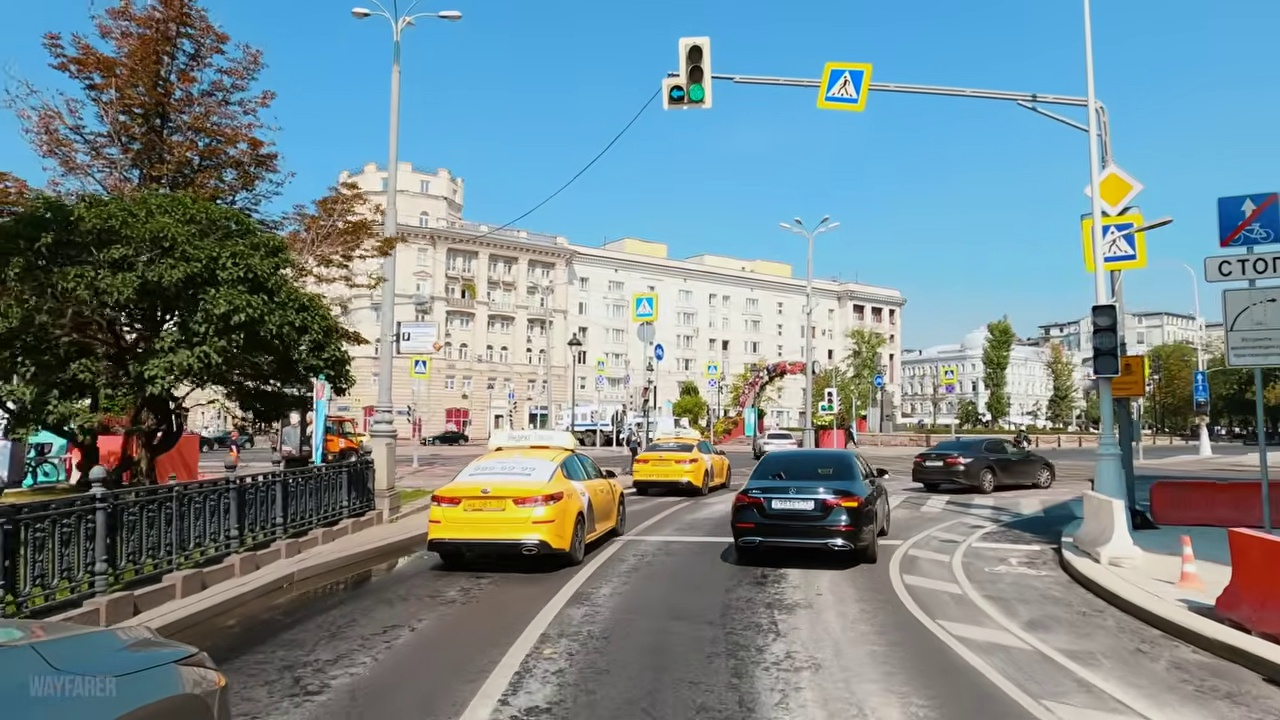acesa: (1100, 170, 1132, 204)
apagada: (437, 3, 475, 28), (348, 5, 378, 22)
